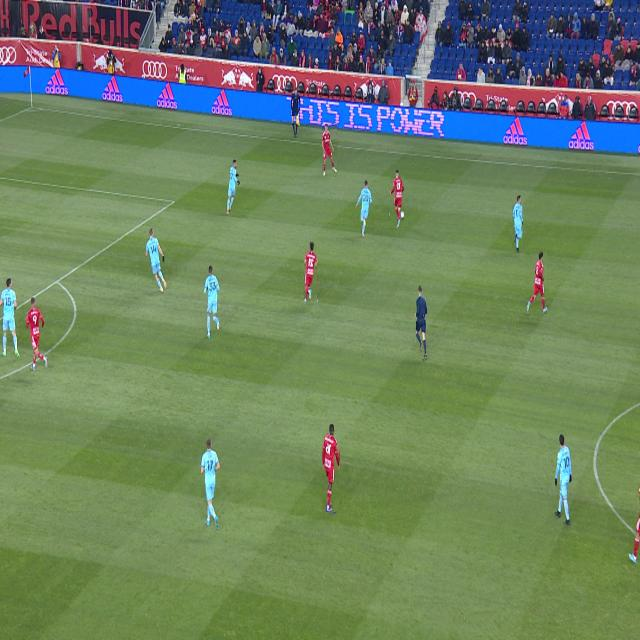football: (389, 210, 394, 219)
player: (201, 438, 220, 530), (0, 278, 20, 360), (26, 297, 48, 371), (555, 434, 572, 525), (323, 424, 339, 512), (146, 228, 167, 292), (527, 252, 547, 314), (204, 265, 219, 338), (356, 180, 372, 237), (390, 171, 404, 228), (322, 124, 337, 176), (305, 242, 317, 304), (227, 160, 240, 215), (513, 196, 523, 252), (629, 513, 640, 563)
referee: (414, 285, 427, 361)
